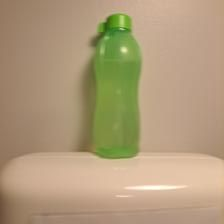bottle: (87, 11, 144, 161)
